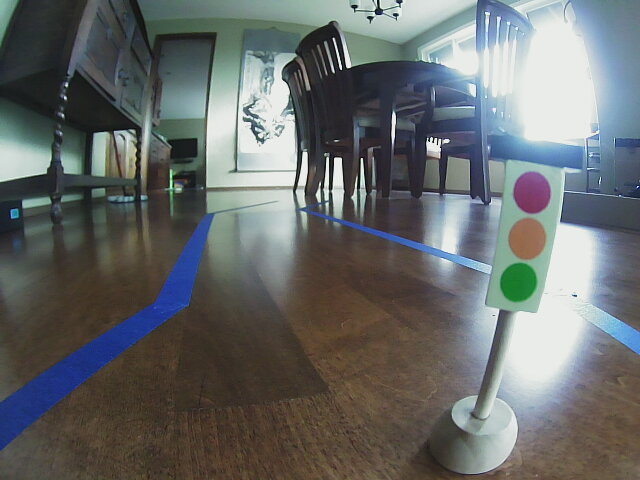TrafficLight: (498, 155, 554, 316)
